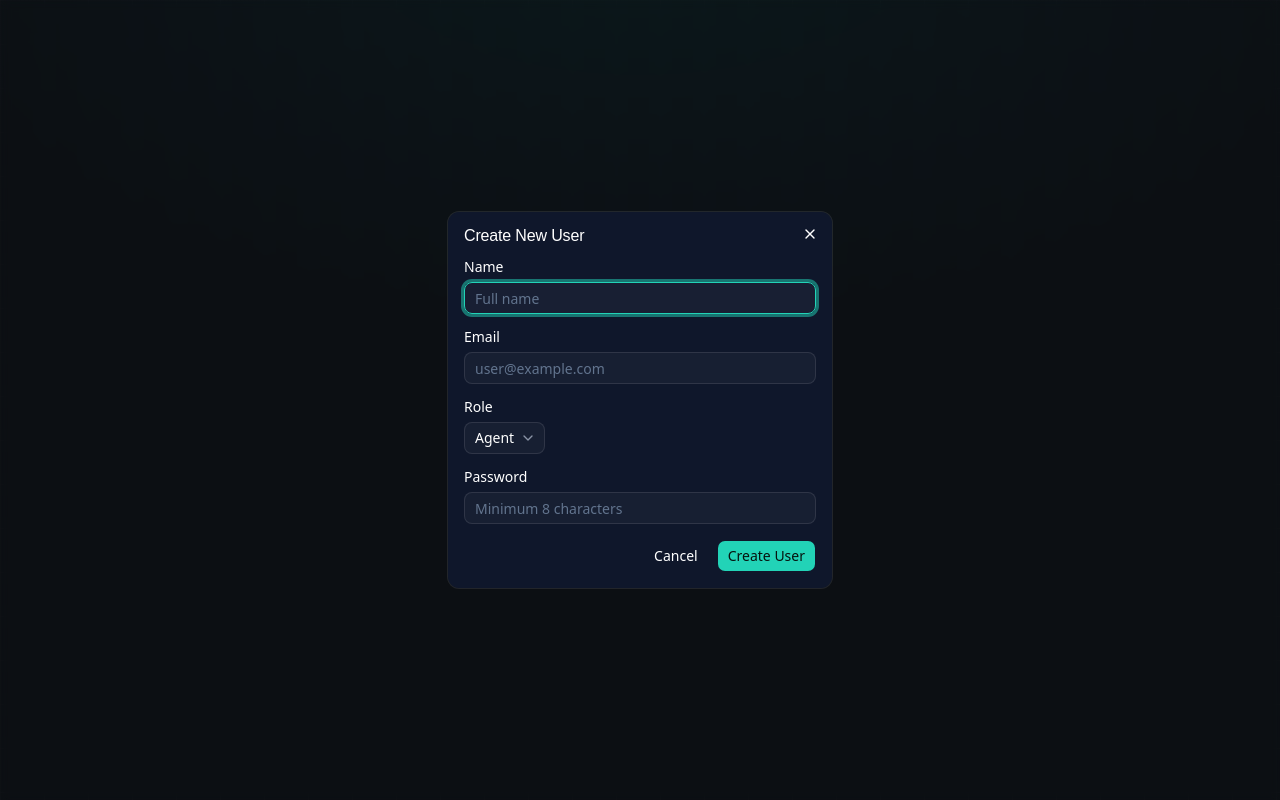
Test: UserFormDialog — create mode › shows validation error when name is too short
In the field labelled "Name": point(640, 298) [464,282,816,314], type "AB"
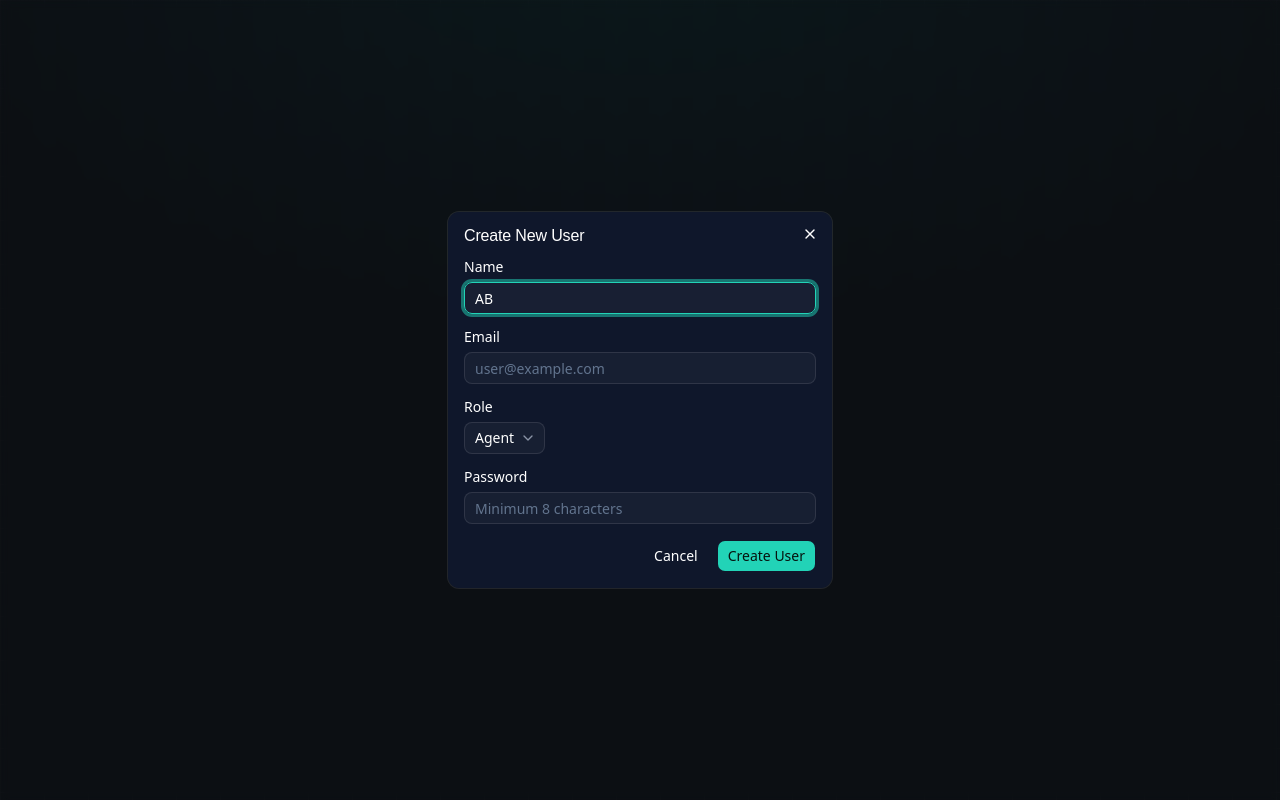
In the field labelled "Email": point(640, 368) [464,352,816,384], type "a@b.com"
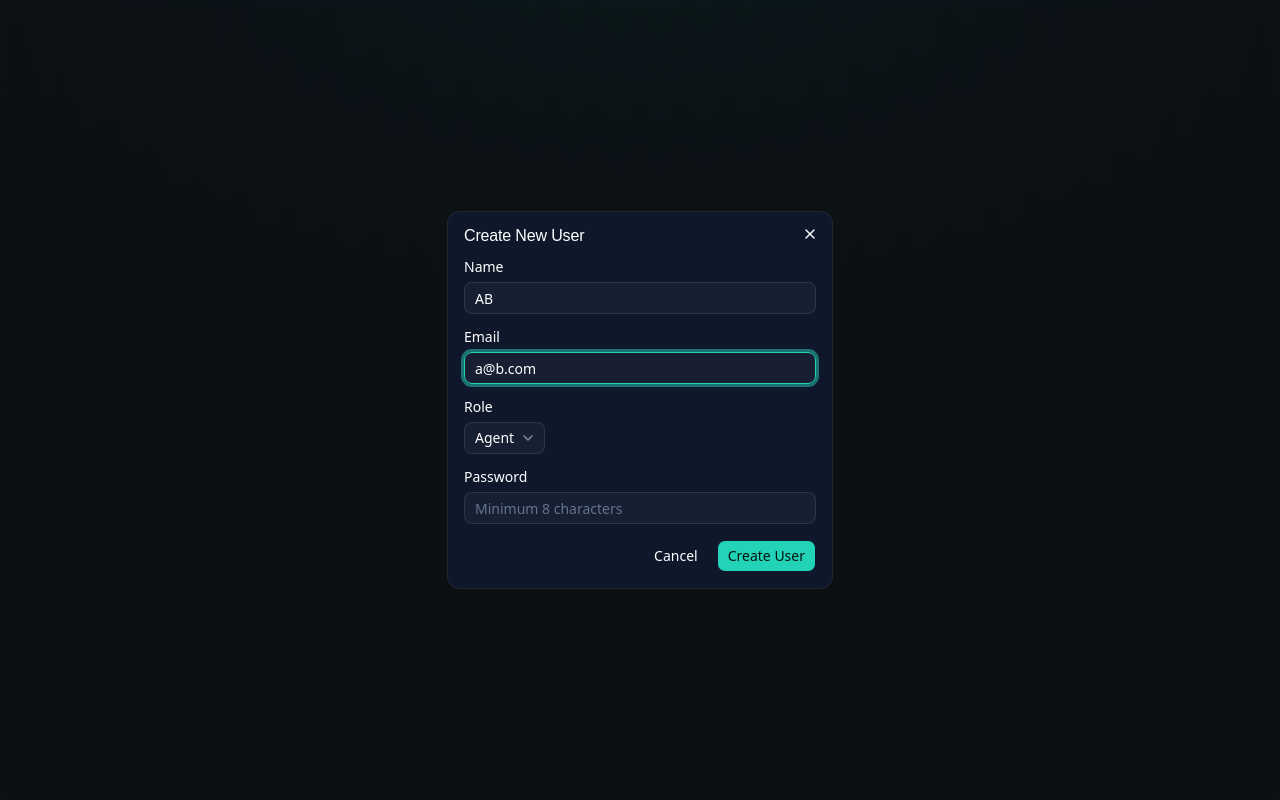
In the password field labelled "Password": point(640, 508) [464,492,816,524], type "password123"
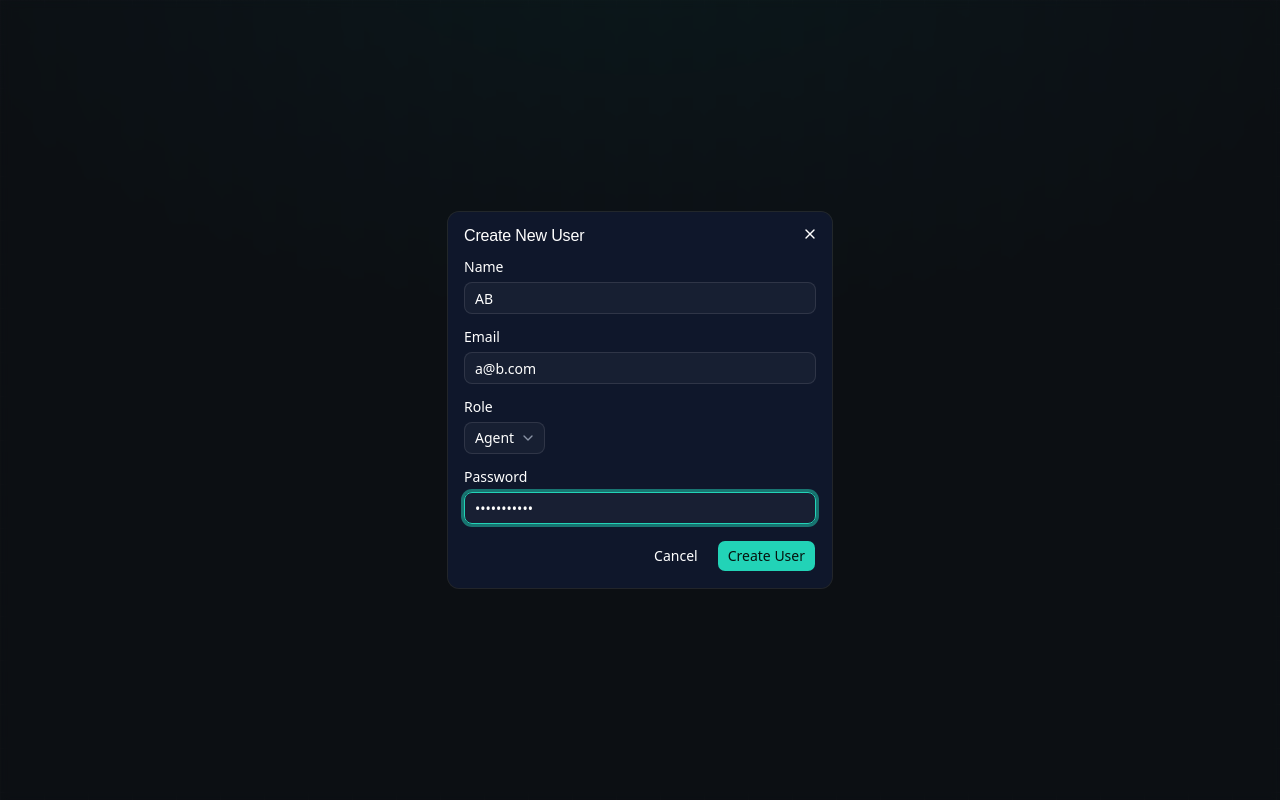
Click the button "Create User": point(766, 556) [717,540,816,572]
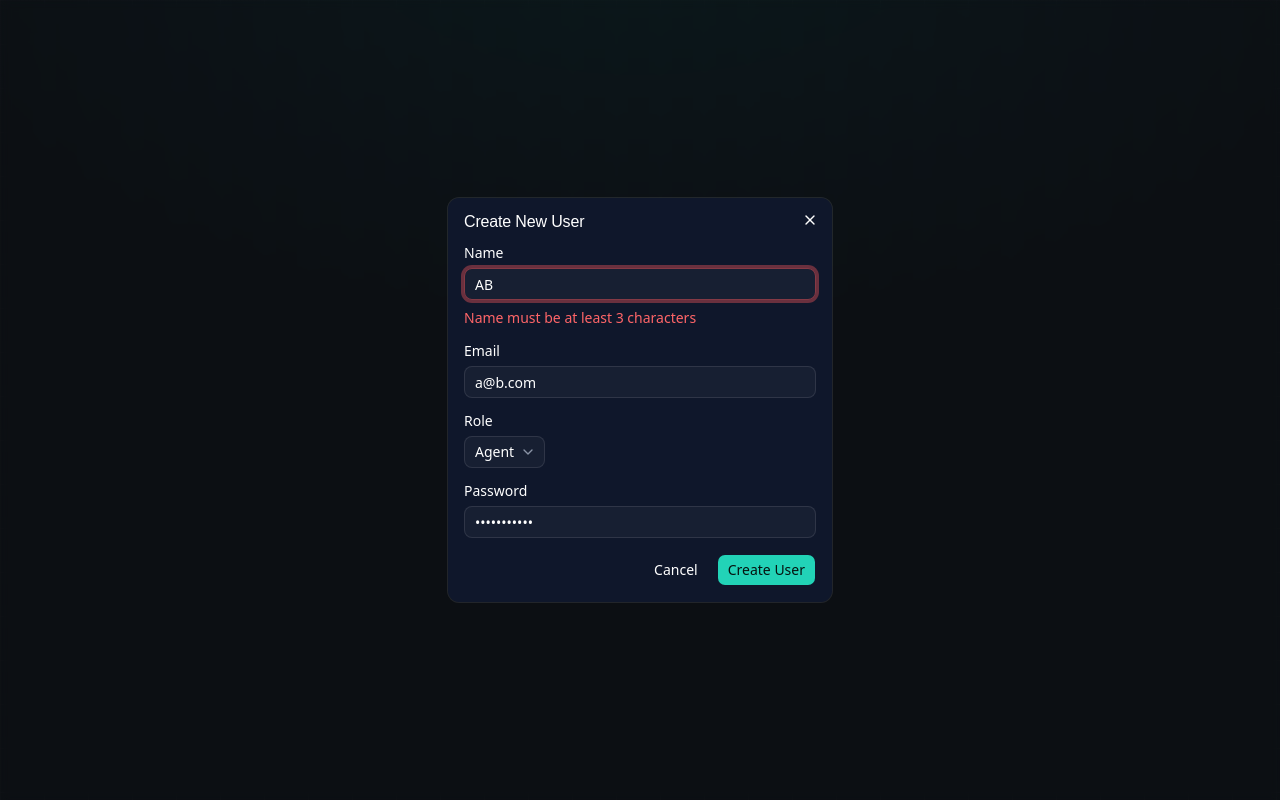
Expected: the text "Name must be at least 3 characters" is shown, [464,308,696,327]
